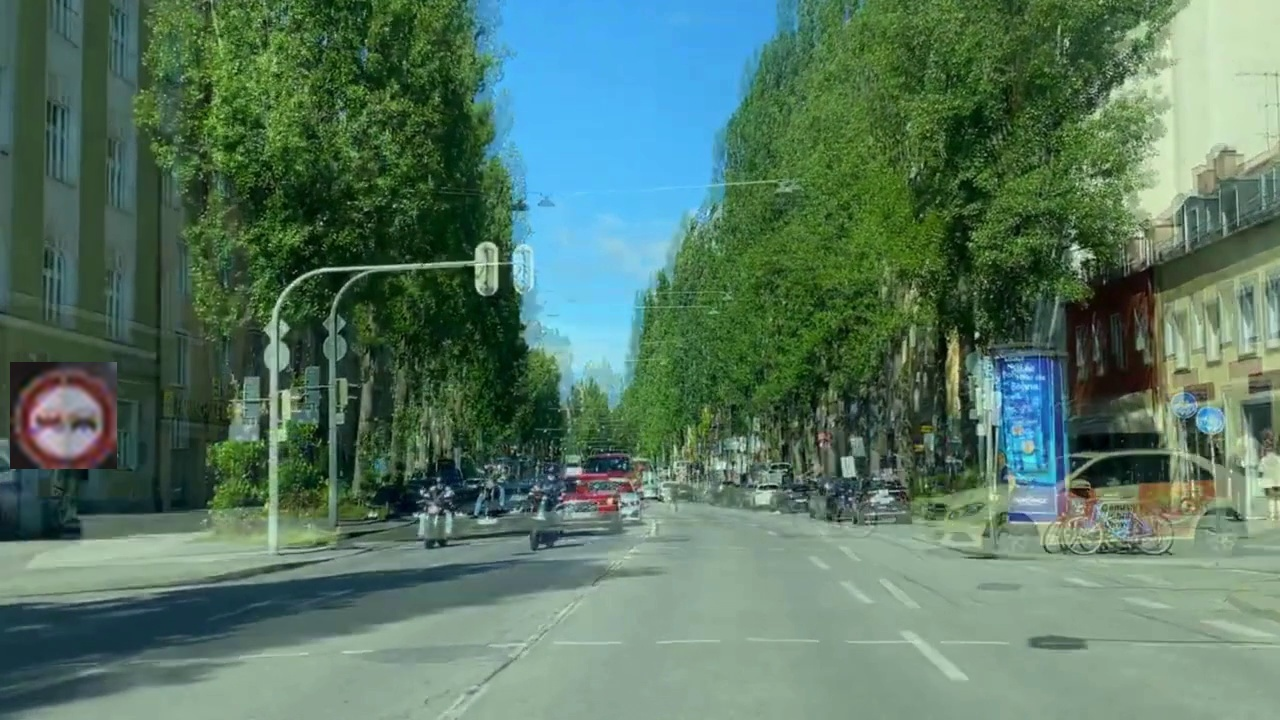No passing: (10, 362, 117, 469)
